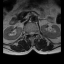CCS_normal: (31, 30, 32, 38)
LFS_normal: (34, 30, 36, 35)
LLS_normal: (32, 29, 34, 36)
RFS_stenosis: (27, 30, 29, 37)
RLS_normal: (29, 30, 31, 36)
